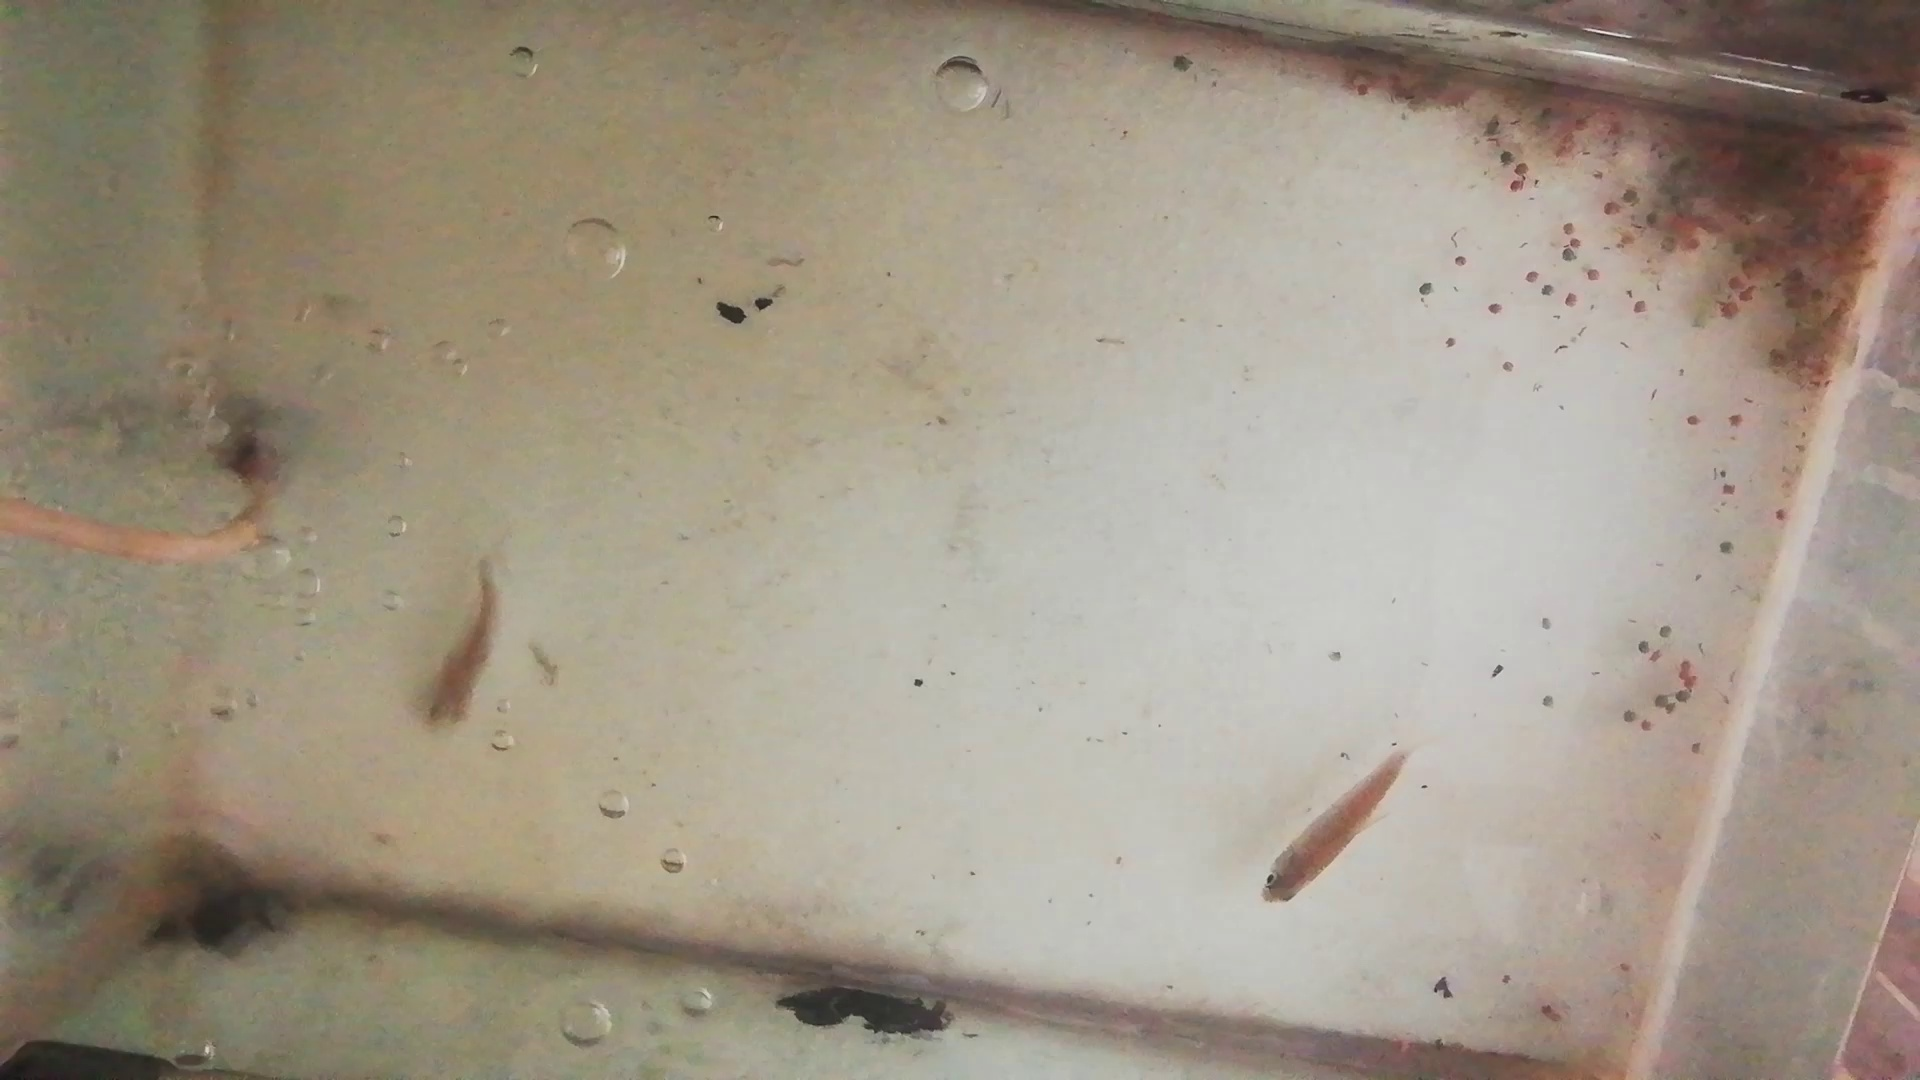fish: (1261, 758, 1410, 910), (415, 560, 501, 736)
